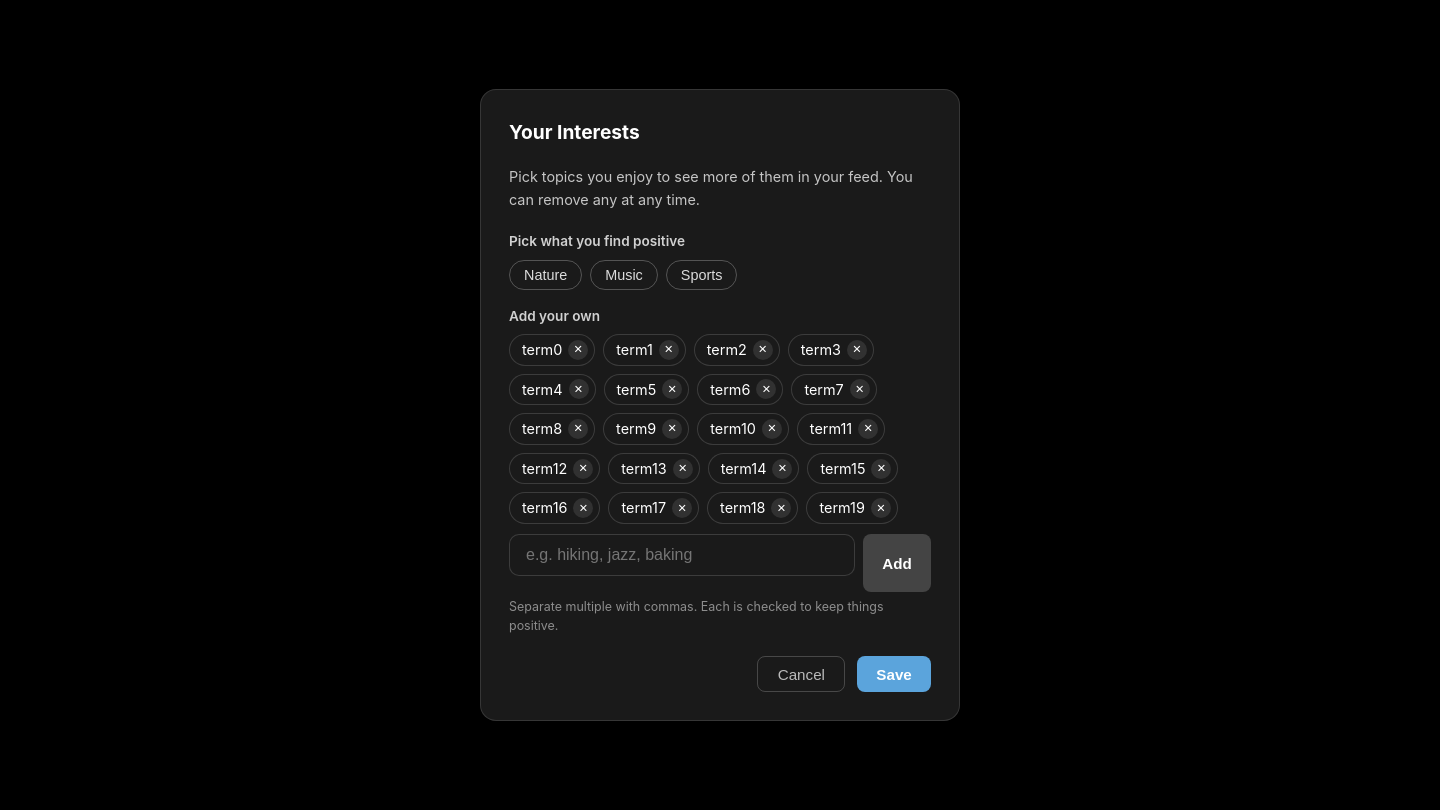
Test: re-typing an already-listed term at the cap is still allowed
This screenshot has width=1440, height=810.
Expected: the button "Nature" is shown, [509, 260, 582, 290]
// A duplicate consumes no room, so it must not be blocked by the cap.
Type "TERM0" into the field. click: (682, 555)
box: [509, 534, 855, 576]
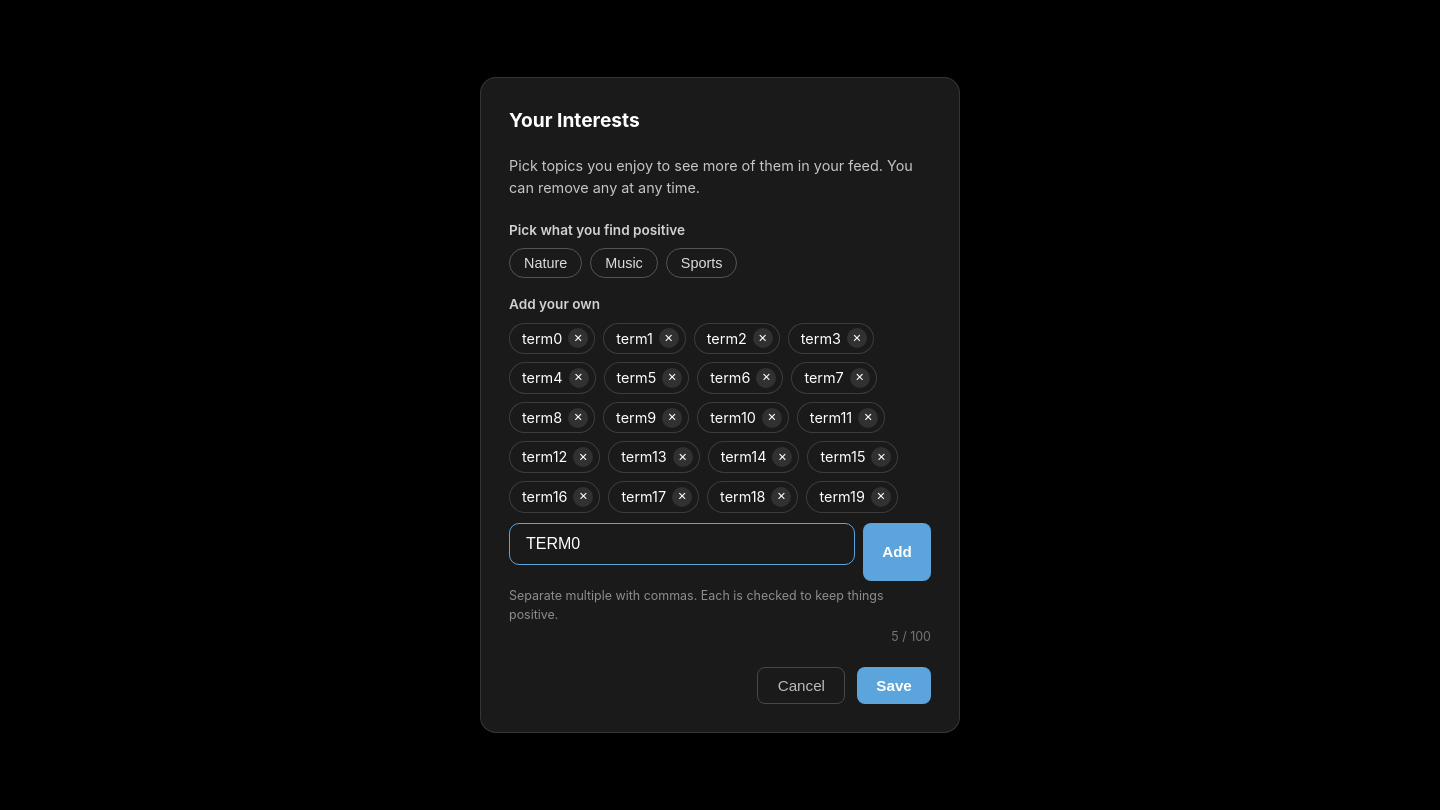
Expected: the button "Add" is enabled, [863, 523, 931, 581]
